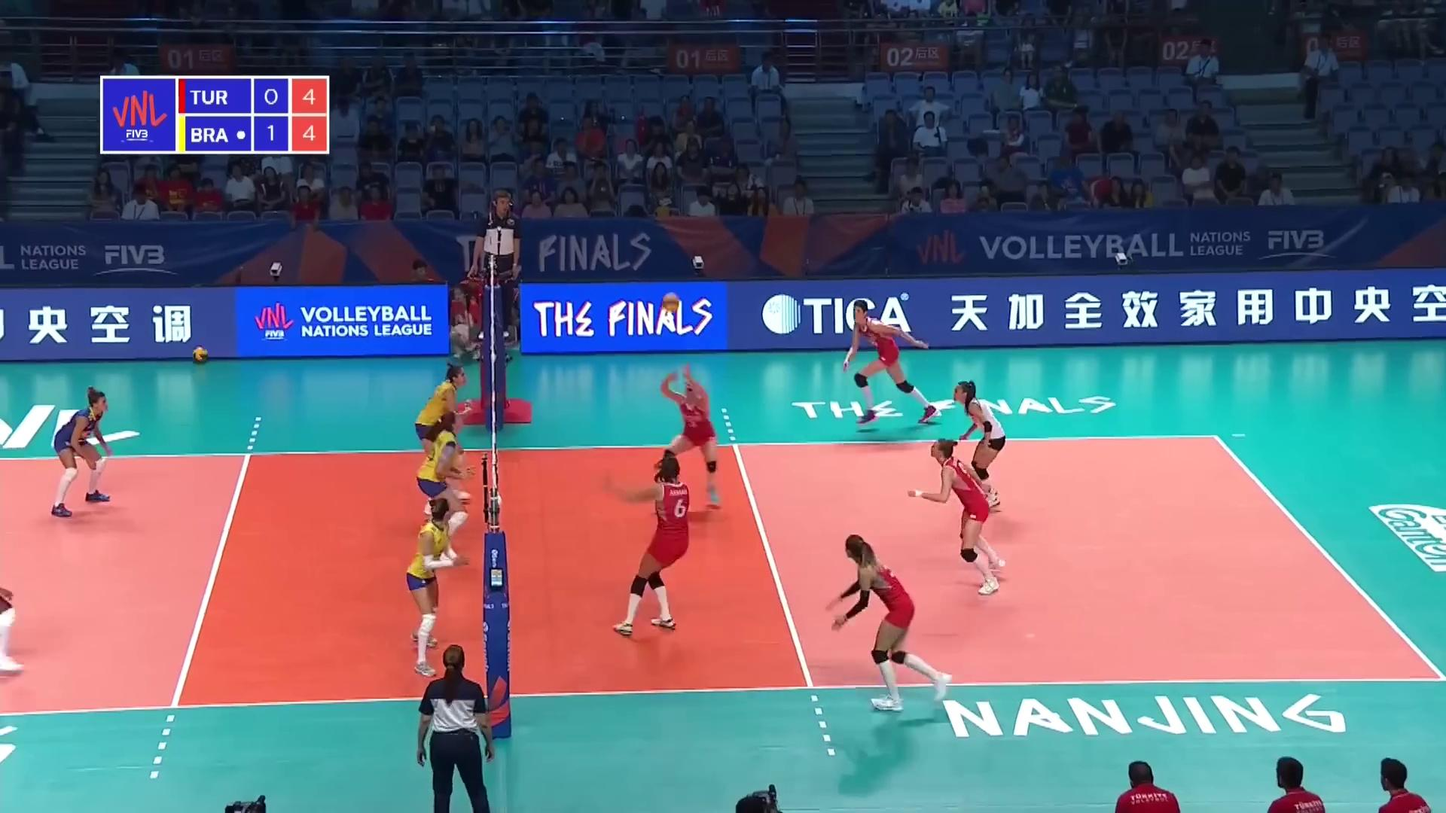player: (825, 537, 956, 710), (608, 455, 695, 635), (915, 439, 1009, 593), (845, 301, 937, 424), (407, 499, 469, 675), (657, 366, 722, 510), (51, 388, 117, 515), (416, 368, 473, 506), (419, 413, 469, 561), (952, 380, 1008, 507)
refree: (414, 646, 498, 813), (471, 191, 521, 336)
